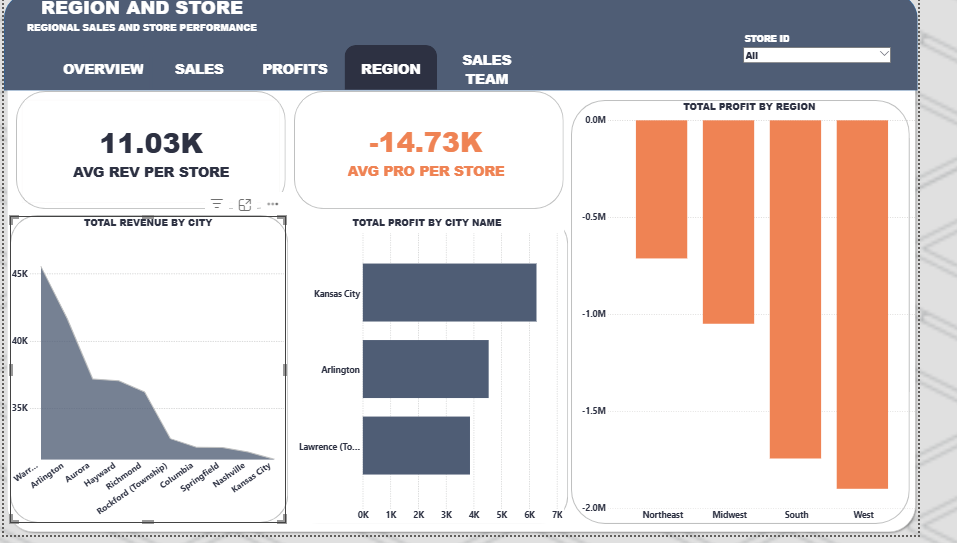

This screenshot's page, from the dashboard's own definition file:
{"tool":"powerbi","page":{"name":"REGION ","canvas":[1280,720],"ordinal":3},"visuals":[{"type":"shape","box":[0,0,1269.7,720],"z":0},{"type":"textbox","title":"REGION AND STORE","box":[14.9,23.9,431.7,67.2],"z":1000},{"type":"shape","box":[627.4,83.7,642.3,313.7],"z":2000},{"type":"shape","box":[639.3,401.8,630.4,313.7],"z":3000},{"type":"shape","box":[10.5,112,300.2,179.3],"z":4000},{"type":"shape","box":[315.2,112,300.2,179.3],"z":5000},{"type":"shape","box":[14.9,310.7,612.4,409.3],"z":6000},{"type":"cardVisual","fields":{"Data":["My measures.AVG REV PER STORE"]},"box":[14.9,112,294.3,177.8],"z":7000},{"type":"cardVisual","fields":{"Data":["My measures.AVG PRO PER STORE"]},"box":[328.6,122.5,306.2,159.8],"z":8000},{"type":"clusteredColumnChart","title":"TOTAL PROFIT BY REGION","fields":{"Category":["region_usa.Region"],"Y":["My measures.Total Profit"]},"box":[32.9,327.1,582.6,377.9],"z":9000},{"type":"barChart","title":"TOTAL PROFIT BY CITY NAME","fields":{"Category":["store_sales_usa.City Name","store_sales_usa._StoreID"],"Y":["Sum(sales_order_usa.total profit)"]},"box":[640,90.7,628.2,288.9],"z":10000},{"type":"stackedAreaChart","title":"TOTAL REVENUE BY CITY","fields":{"Category":["store_sales_usa.City Name"],"Y":["sales_order_usa.Total revenue"]},"box":[655.1,406.5,614.8,299],"z":11000},{"type":"slicer","fields":{"Values":["store_sales_usa._StoreID"]},"box":[1000.8,0,255.7,84.1],"z":12000},{"type":"pageNavigator","box":[446.6,31.4,554.2,52.3],"z":13000},{"type":"image","box":[10.5,119.5,113.5,82.2],"z":14000},{"type":"image","box":[315.2,132.9,116.5,91.1],"z":15000},{"type":"image","box":[1000.8,433.2,279.3,141.9],"z":16000}]}

Visuals, with their boxes in screenshot pixels (x1, y1, x2, y2), scaled from the page's 1280x720 canvas onto the 957x543 screenshot:
shape: bbox(0, 0, 949, 542)
"REGION AND STORE" textbox: bbox(11, 18, 334, 69)
shape: bbox(469, 63, 949, 300)
shape: bbox(478, 303, 949, 540)
shape: bbox(8, 84, 232, 220)
shape: bbox(236, 84, 460, 220)
shape: bbox(11, 234, 469, 542)
cardVisual - My measures.AVG REV PER STORE: bbox(11, 84, 231, 219)
cardVisual - My measures.AVG PRO PER STORE: bbox(246, 92, 475, 213)
"TOTAL PROFIT BY REGION" clusteredColumnChart: bbox(25, 247, 460, 532)
"TOTAL PROFIT BY CITY NAME" barChart: bbox(478, 68, 948, 286)
"TOTAL REVENUE BY CITY" stackedAreaChart: bbox(490, 307, 949, 532)
slicer - store_sales_usa._StoreID: bbox(748, 0, 939, 63)
pageNavigator: bbox(334, 24, 748, 63)
image: bbox(8, 90, 93, 152)
image: bbox(236, 100, 323, 169)
image: bbox(748, 327, 956, 434)
